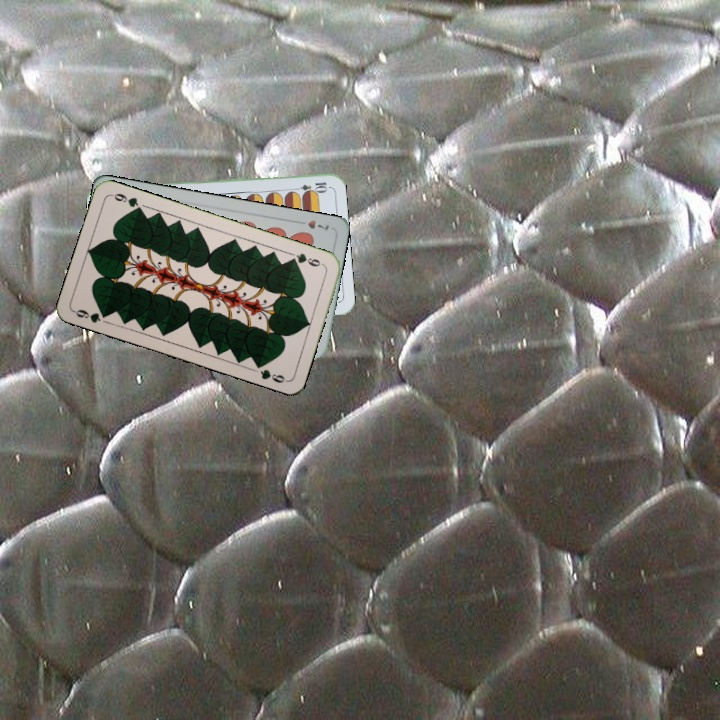E10: (289, 178, 330, 194)
G9: (70, 305, 112, 325), (286, 249, 327, 269)
H7: (293, 216, 332, 233)
